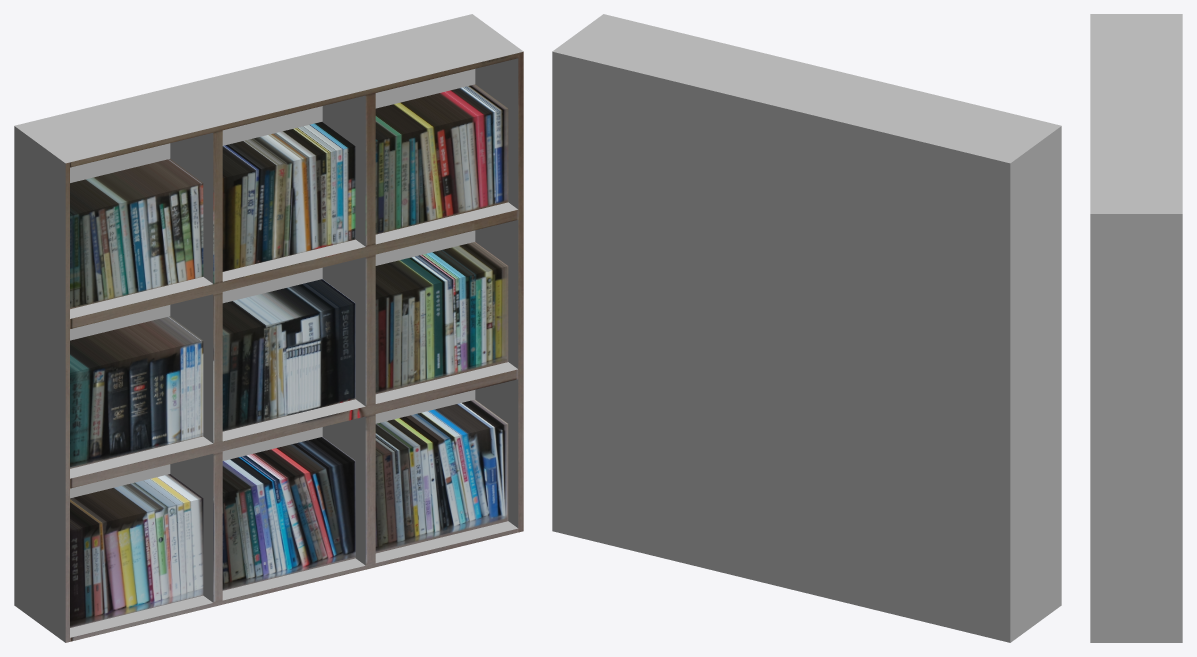
File: BookShelf_obj.obj
The picture shows the model from 3 angles, left to right: view 1: azimuth 30°, elevation 25°; view 2: azimuth 150°, elevation 25°; view 3: azimuth 270°, elevation 25°; orthographic projection. The views are drawn at different scales.
Visible parts, largest first — view 1: BookShelf; view 2: BookShelf; view 3: BookShelf.
Boxes of the visible parts, x1,y1,x2,y2 form: BookShelf: (14,14,523,642); BookShelf: (552,14,1061,642); BookShelf: (1090,14,1182,642).
Bounding box in the file's own units: 178 × 178 × 34.66.
